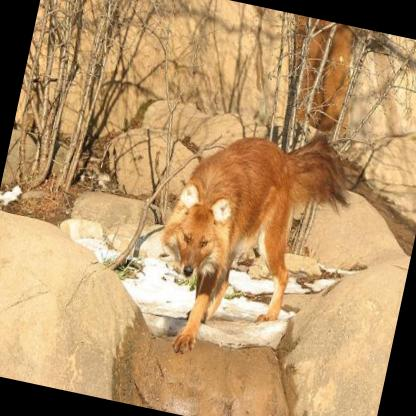dhole: (137, 109, 362, 381)
